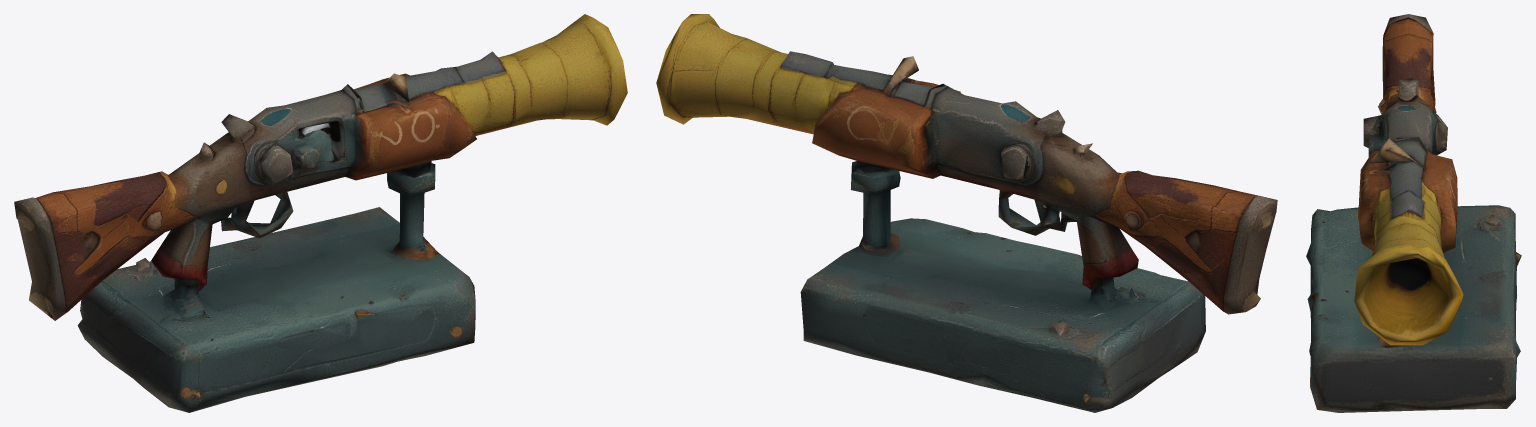
File: weapon_blunderbuss_tertiary_1500_raw.glb
The picture shows the model from 3 angles, left to right: view 1: azimuth 30°, elevation 25°; view 2: azimuth 150°, elevation 25°; view 3: azimuth 270°, elevation 25°; orthographic projection. The views are drawn at different scales.
Visible parts, largest first — view 1: tripo_node_6177e2d4-3d30-4a58-a24c-7cbc9aada96e; view 2: tripo_node_6177e2d4-3d30-4a58-a24c-7cbc9aada96e; view 3: tripo_node_6177e2d4-3d30-4a58-a24c-7cbc9aada96e.
Part boxes in pixels (bbox=[...]): tripo_node_6177e2d4-3d30-4a58-a24c-7cbc9aada96e: bbox=[14, 14, 627, 412]; tripo_node_6177e2d4-3d30-4a58-a24c-7cbc9aada96e: bbox=[656, 14, 1277, 412]; tripo_node_6177e2d4-3d30-4a58-a24c-7cbc9aada96e: bbox=[1306, 14, 1521, 412].
Size of the model in its own units: 0.9827 by 0.4133 by 0.3207.
1 material, 1 textured.
